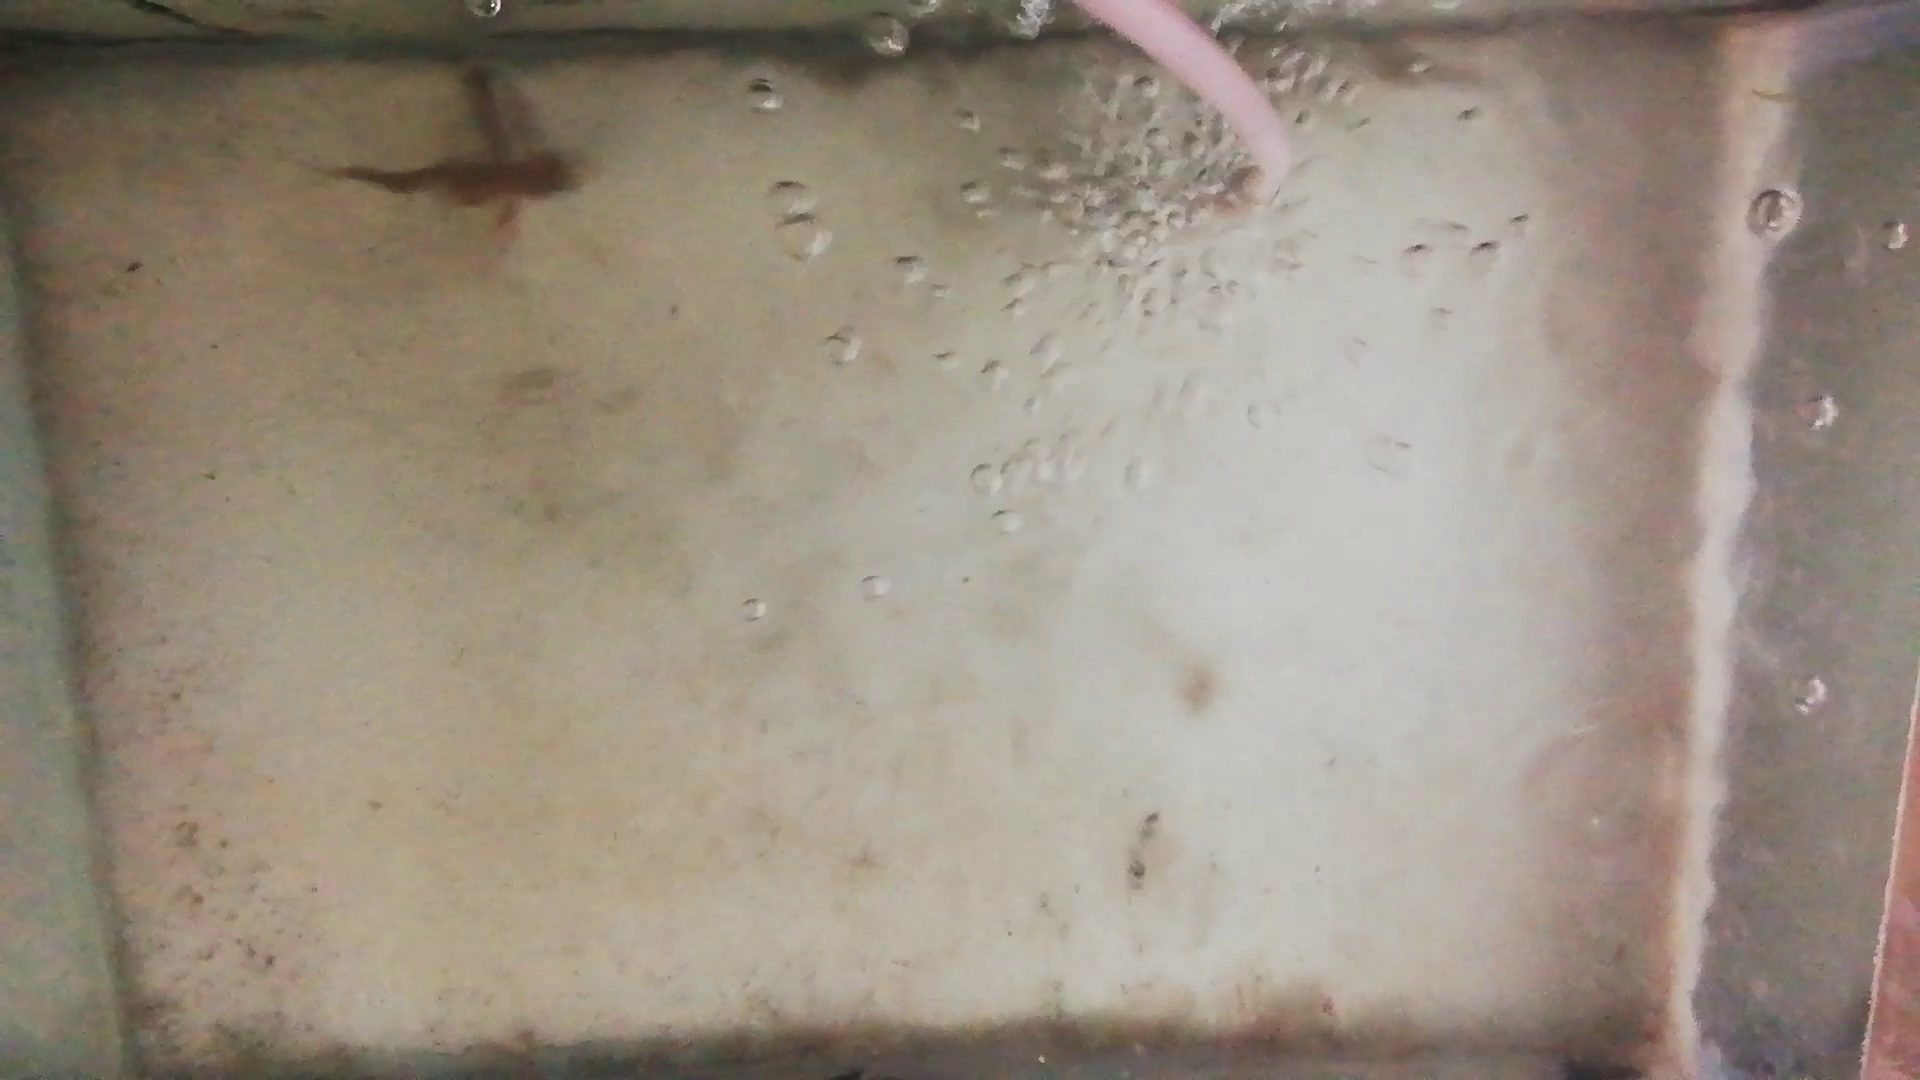fish: (444, 57, 525, 244), (336, 153, 603, 208)
